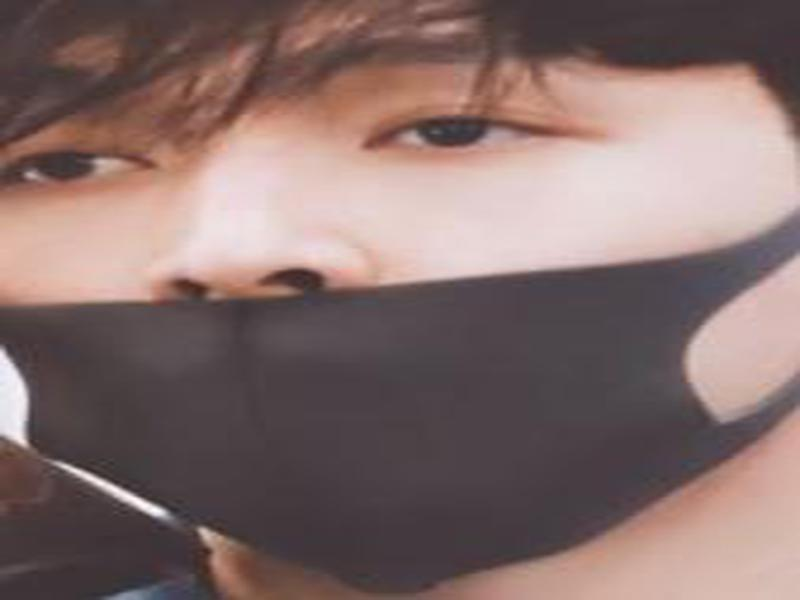with_mask: (1, 1, 797, 599)
